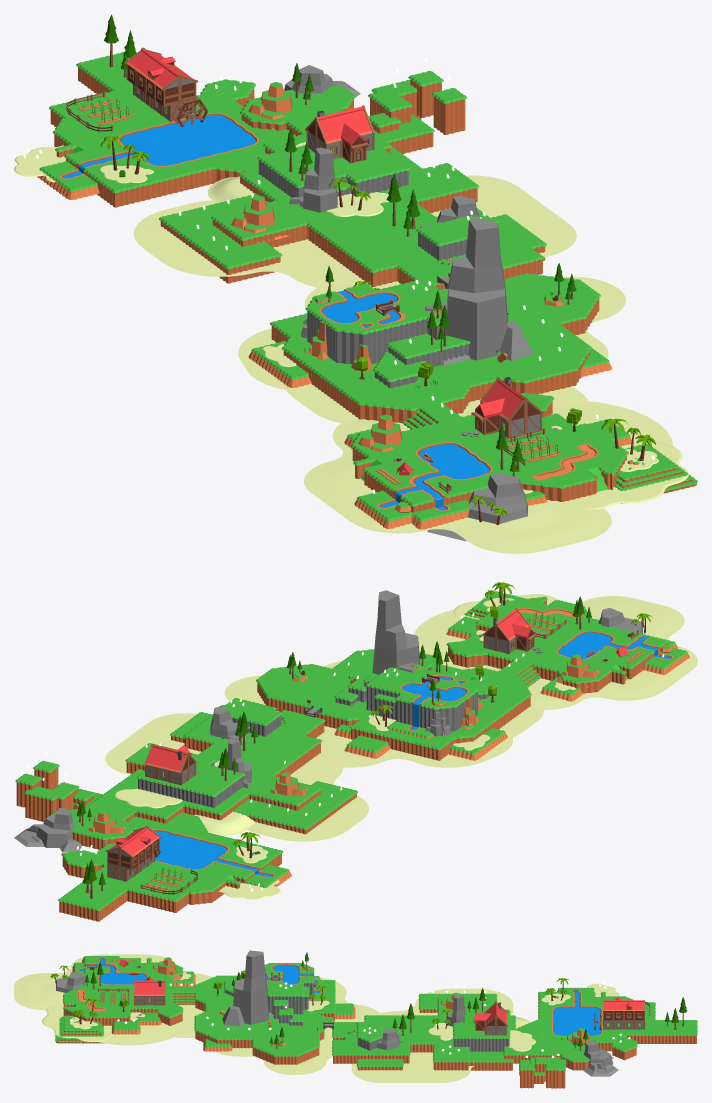
The model's file is SC_Square_Route.fbx.
3 renders of one model, top to bottom at view 1: azimuth 30°, elevation 25°; view 2: azimuth 150°, elevation 25°; view 3: azimuth 270°, elevation 25°, orthographic. The views are drawn at different scales.
Visible parts, largest first — view 1: SM_Pond_2, SM_Pond_1, SM_Mound_Large, SM_Landscape_01, SM_Pond_3, SM_Mound_T.001, SM_Mountain, SM_Mound_Rock, SM_Landscape_02.002, SM_Landscape_04, SM_Mound_L.001, SM_Mound_T (+31 smaller); view 2: SM_Pond_2, SM_Pond_1, SM_Mound_Large, SM_Pond_3, SM_Landscape_01, SM_Mound_T.001, SM_Mound_L, SM_Mound_Rock, SM_Landscape_02.002, SM_Landscape_04, SM_Mound_L.001, SM_Mountain (+31 smaller); view 3: SM_Pond_2, SM_Mound_Large, SM_Pond_1, SM_Landscape_04, SM_Mountain, SM_Landscape_01, SM_Pond_3, SM_Mound_T, SM_Mound_Rock, SM_Mound_2, SM_Mound_L, SM_Mound_Round (+32 smaller).
Part boxes in pixels (x1=…): SM_Pond_2: x1=351, y1=392, x2=628, y2=512; SM_Pond_1: x1=52, y1=79, x2=295, y2=207; SM_Mound_Large: x1=282, y1=288, x2=591, y2=423; SM_Landscape_01: x1=304, y1=413, x2=611, y2=553; SM_Pond_3: x1=301, y1=265, x2=447, y2=371; SM_Mound_T.001: x1=211, y1=168, x2=425, y2=286; SM_Mountain: x1=425, y1=218, x2=532, y2=365; SM_Mound_Rock: x1=257, y1=142, x2=410, y2=212; SM_Landscape_02.002: x1=133, y1=200, x2=364, y2=287; SM_Landscape_04: x1=383, y1=175, x2=625, y2=358; SM_Mound_L.001: x1=159, y1=194, x2=282, y2=283; SM_Mound_T: x1=263, y1=133, x2=479, y2=240; SM_Pond_2: x1=446, y1=596, x2=668, y2=693; SM_Pond_1: x1=61, y1=812, x2=283, y2=904; SM_Mound_Large: x1=299, y1=649, x2=531, y2=743; SM_Pond_3: x1=365, y1=644, x2=483, y2=736; SM_Landscape_01: x1=495, y1=596, x2=697, y2=709; SM_Mound_T.001: x1=182, y1=730, x2=322, y2=820; SM_Mound_L: x1=58, y1=864, x2=188, y2=921; SM_Mound_Rock: x1=136, y1=738, x2=251, y2=807; SM_Landscape_02.002: x1=247, y1=756, x2=368, y2=841; SM_Landscape_04: x1=105, y1=661, x2=342, y2=775; SM_Mound_L.001: x1=233, y1=781, x2=357, y2=834; SM_Mountain: x1=372, y1=590, x2=420, y2=674; SM_Pond_2: x1=63, y1=958, x2=183, y2=1025; SM_Mound_Large: x1=194, y1=975, x2=325, y2=1048; SM_Pond_1: x1=517, y1=991, x2=637, y2=1060; SM_Landscape_04: x1=215, y1=1036, x2=474, y2=1082; SM_Mountain: x1=222, y1=950, x2=271, y2=1026; SM_Landscape_01: x1=14, y1=954, x2=212, y2=1010; SM_Pond_3: x1=264, y1=952, x2=317, y2=1014; SM_Mound_T: x1=396, y1=1028, x2=542, y2=1070; SM_Mound_Rock: x1=447, y1=994, x2=510, y2=1051; SM_Mound_2: x1=332, y1=1022, x2=410, y2=1063; SM_Mound_L: x1=620, y1=1002, x2=697, y2=1043; SM_Mound_Round: x1=252, y1=1028, x2=319, y2=1064.
Size of what is drawn, in the model's own units: 60.64 by 18.69 by 131.
